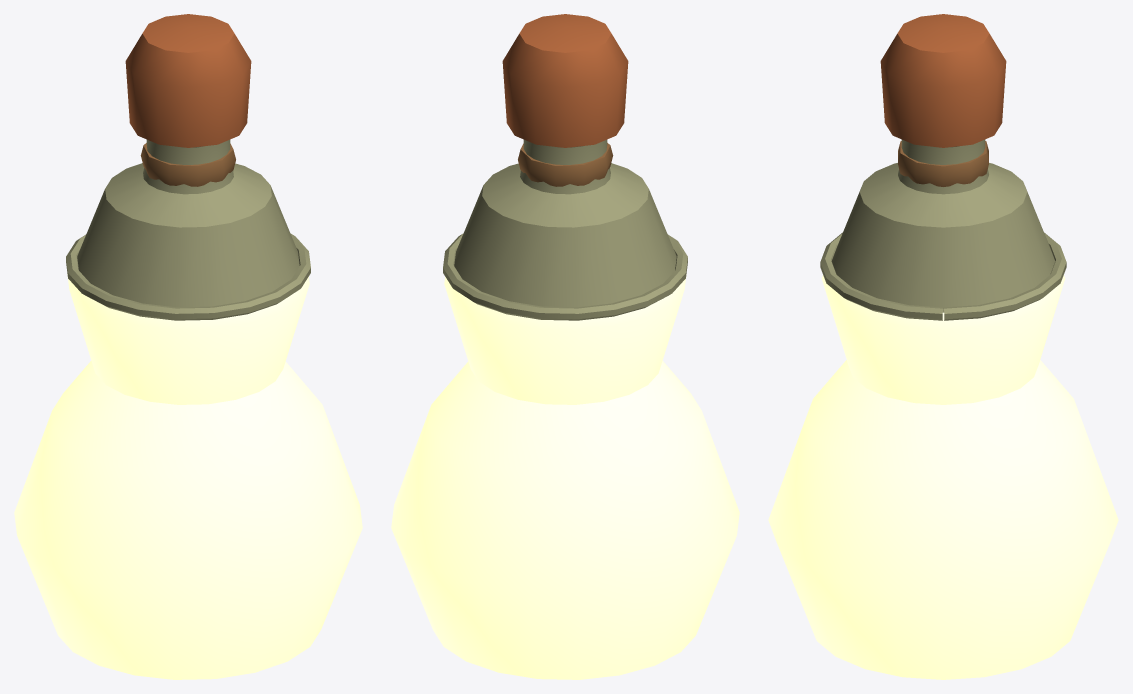
File: titan_brew.glb
3 views of the same model, side by side, from view 1: azimuth 30°, elevation 25°; view 2: azimuth 150°, elevation 25°; view 3: azimuth 270°, elevation 25° (orthographic).
Visible parts, largest first — view 1: berserker_draught; view 2: berserker_draught; view 3: berserker_draught.
Part boxes in pixels (<box>): berserker_draught: <box>14,14,362,679</box>; berserker_draught: <box>391,14,739,679</box>; berserker_draught: <box>768,14,1118,679</box>.
Bounding box in the file's own units: 0.092 × 0.173 × 0.092.
